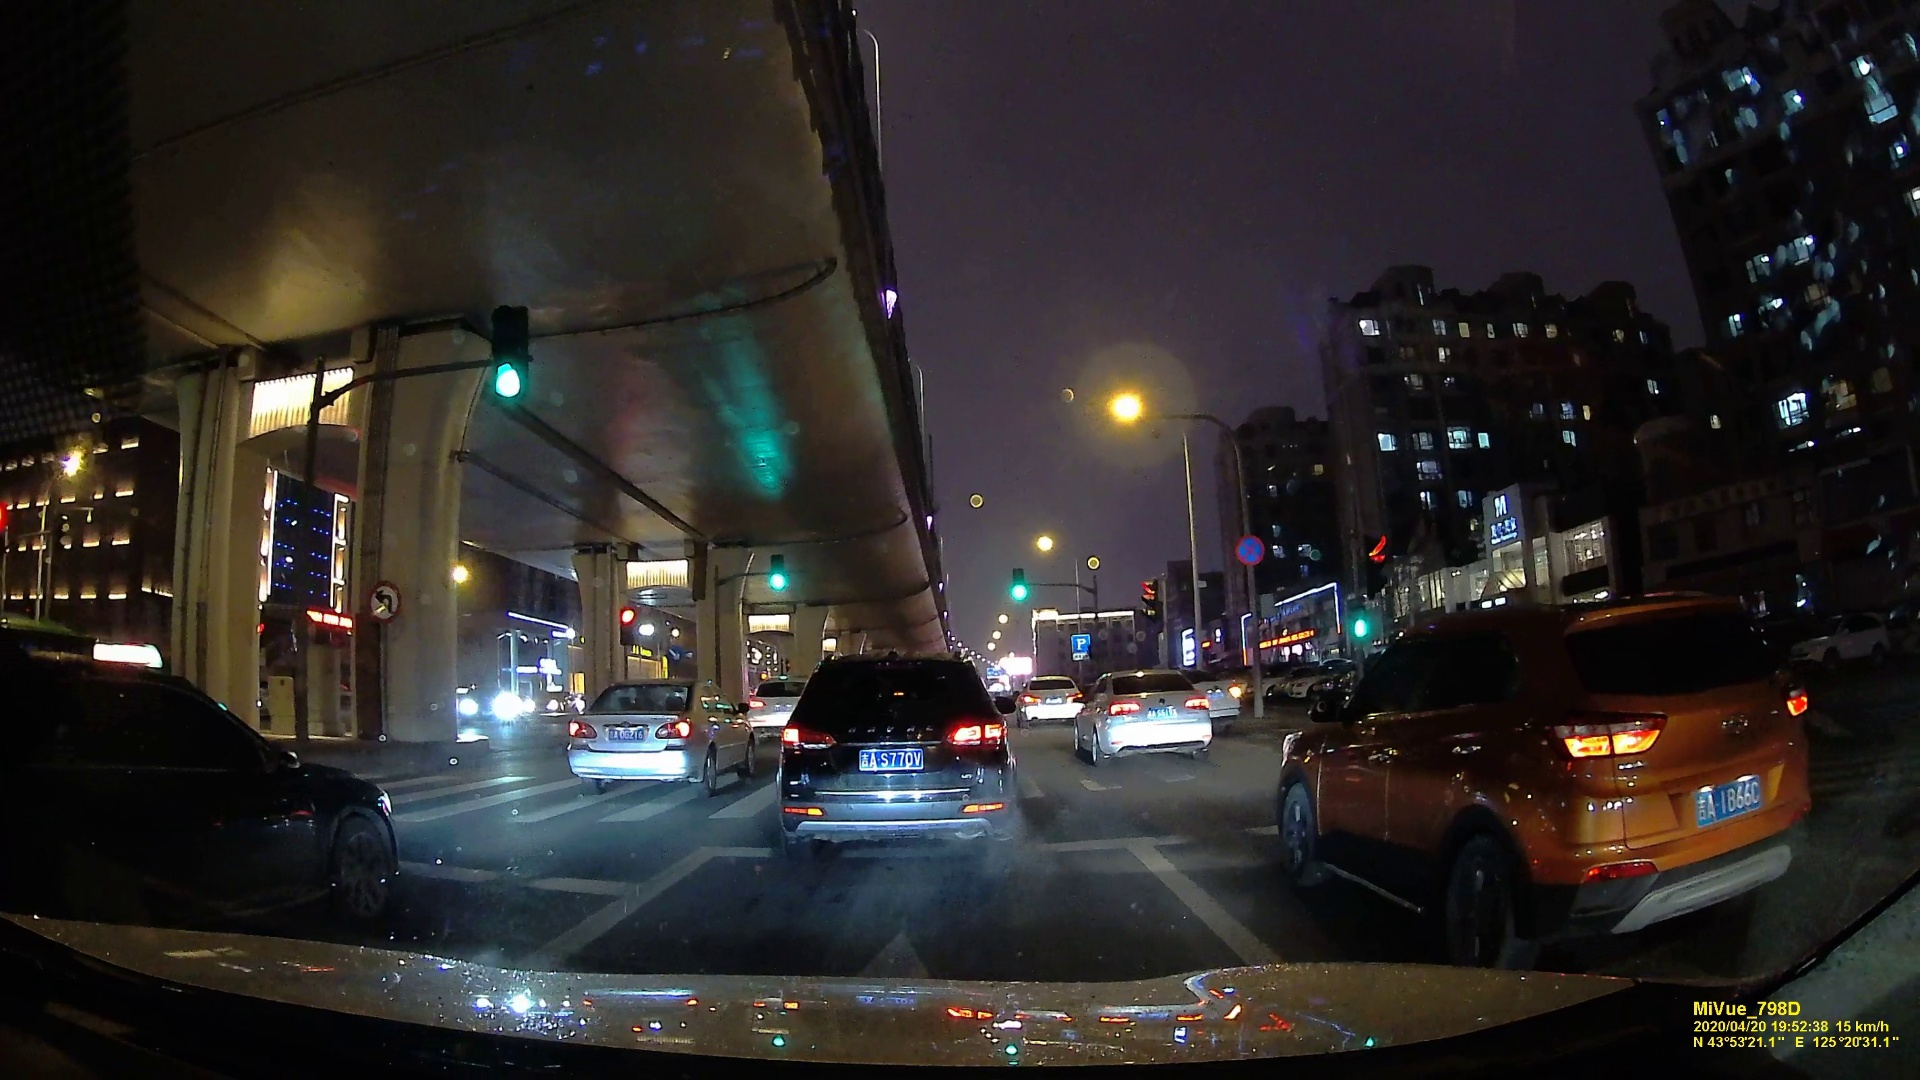traffic_sign: (487, 309, 533, 406), (1360, 530, 1390, 593), (365, 582, 401, 621), (1236, 533, 1269, 564), (1138, 582, 1160, 621), (767, 549, 786, 593), (1007, 570, 1029, 603)
vehicle: (1273, 600, 1809, 952), (1, 655, 401, 920), (775, 655, 1015, 858), (564, 676, 752, 796), (1068, 666, 1217, 764), (1022, 674, 1077, 723)
